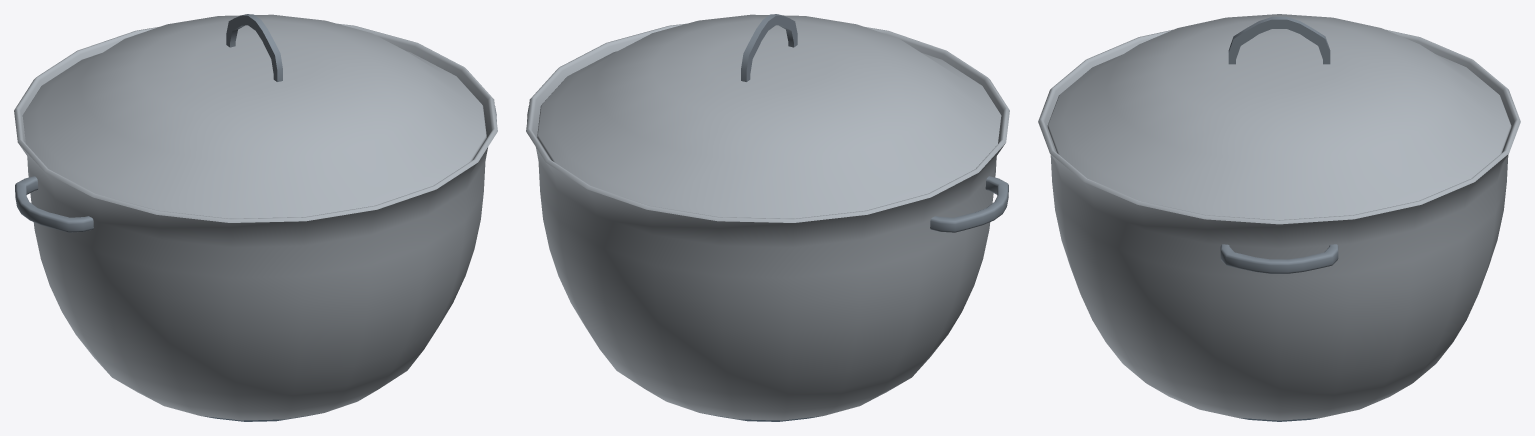
The model's file is Pot-0_5m.fbx.
3 views of the same model, side by side, from view 1: azimuth 30°, elevation 25°; view 2: azimuth 150°, elevation 25°; view 3: azimuth 270°, elevation 25° (orthographic).
Parts seen in each view (by area): view 1: Pot-05.m, Pot-Cover.001; view 2: Pot-05.m, Pot-Cover.001; view 3: Pot-05.m, Pot-Cover.001.
Part boxes in pixels (left/top/right/bottom): Pot-05.m: left=14, top=23, right=497, bottom=421; Pot-Cover.001: left=22, top=14, right=486, bottom=218; Pot-05.m: left=526, top=23, right=1009, bottom=421; Pot-Cover.001: left=537, top=14, right=1001, bottom=218; Pot-05.m: left=1038, top=29, right=1520, bottom=421; Pot-Cover.001: left=1047, top=14, right=1511, bottom=219.
Size of the model in its own units: 0.55 by 0.4129 by 0.5.
